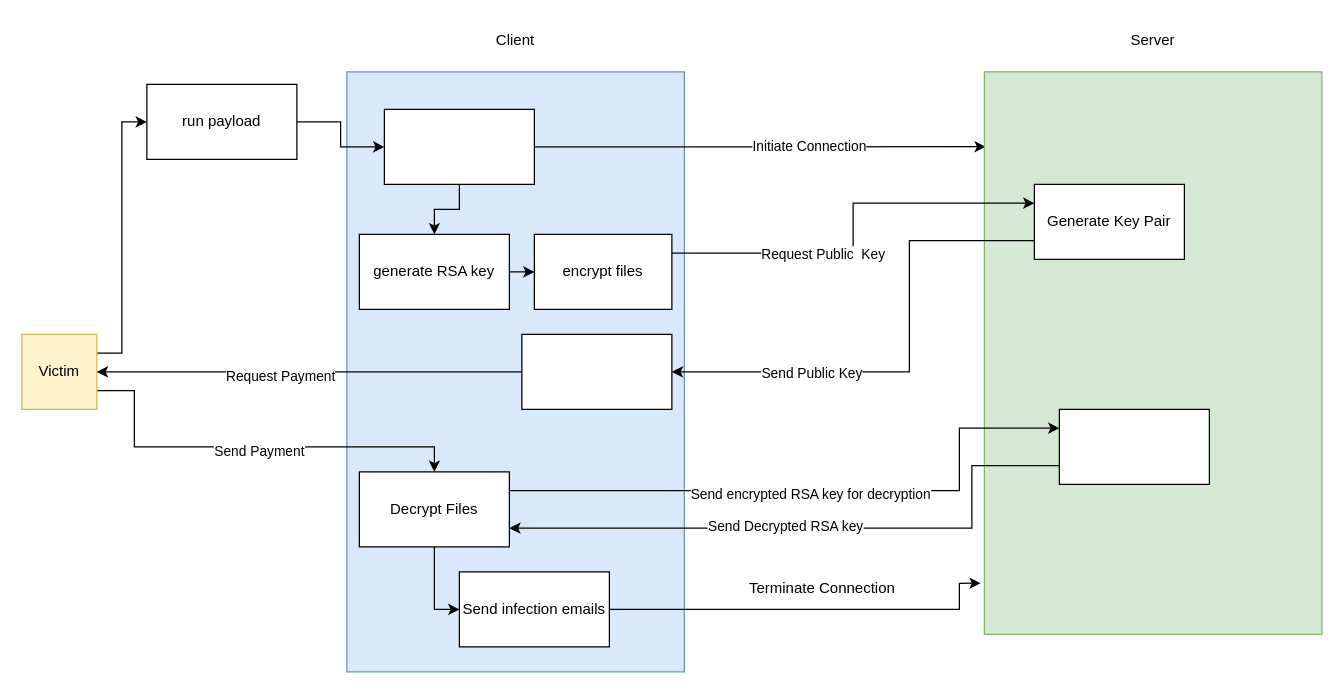
This 1344x694 diagram has some shape labels left out. Each missing label, with the centre of its shape:
"Decrypt RSA key" goes at pixel 1133 446.
"Encrypt RSA key using public key" goes at pixel 596 371.
"Find txt files" goes at pixel 458 146.
